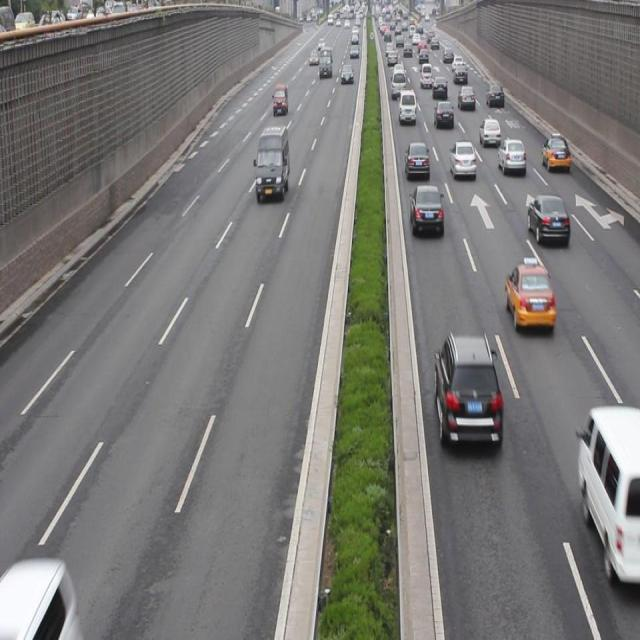car: (432, 332, 503, 454), (504, 254, 554, 335), (527, 194, 568, 248), (408, 182, 443, 238), (498, 136, 526, 178), (449, 142, 475, 180), (404, 142, 429, 180), (541, 135, 568, 170), (477, 116, 501, 148)
truck: (575, 404, 640, 584), (255, 130, 289, 200)
